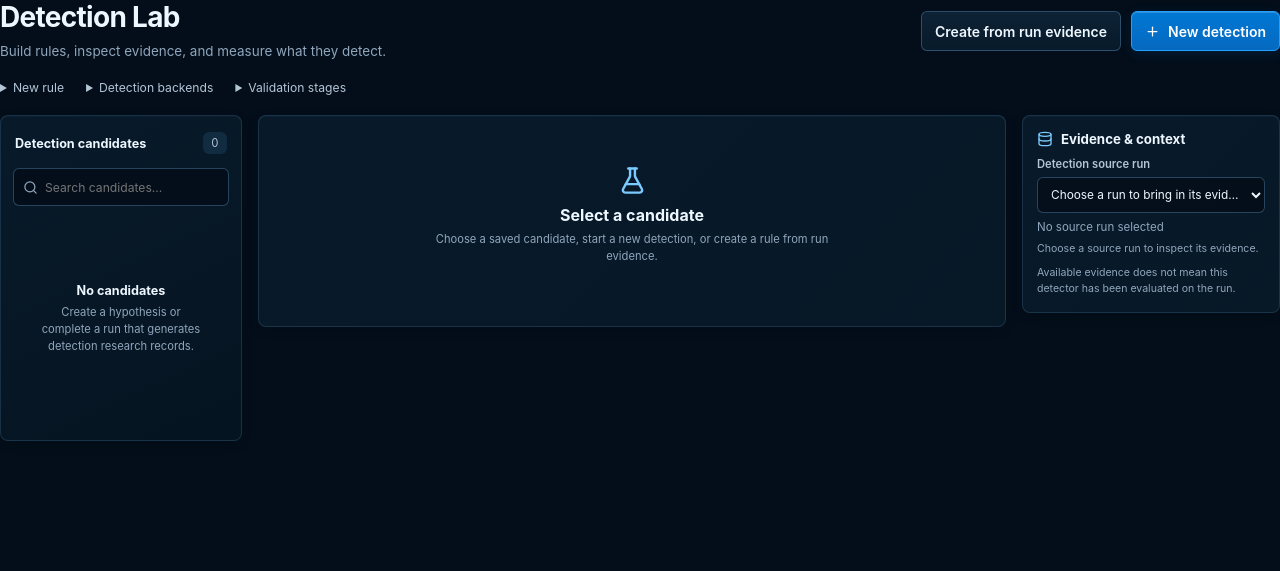
Test: keeps an empty registry focused on a clear creation action without an unrelated AI form
Check: the field labelled "Title" is not shown
Check: the link "Create from run evidence" is shown, box [921,11,1121,51]
Click the button "New detection" at {"x": 1206, "y": 31}, box [1131,11,1279,51]
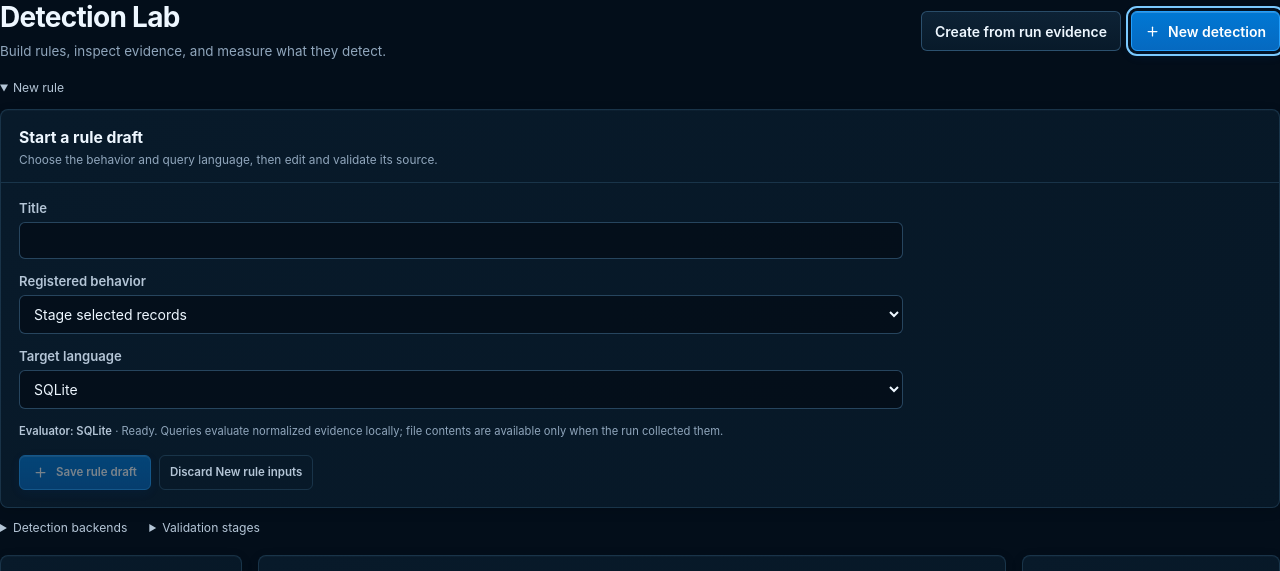
Click the field labelled "Title" at {"x": 461, "y": 241}, box [19,222,903,259]
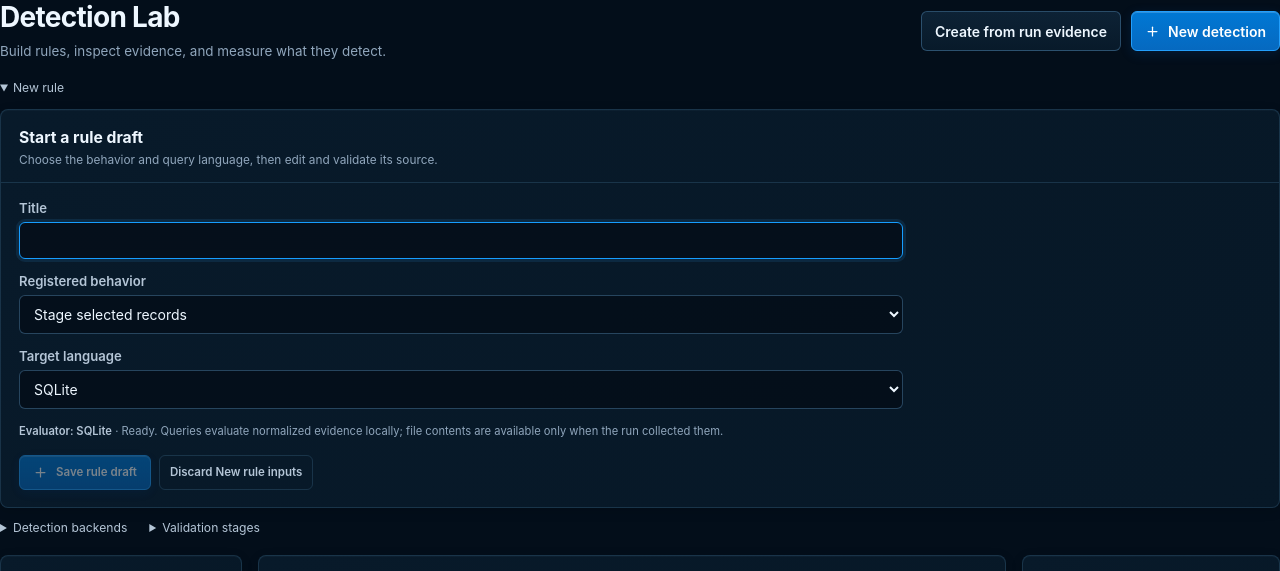
Type keys "Collection behavior draft"
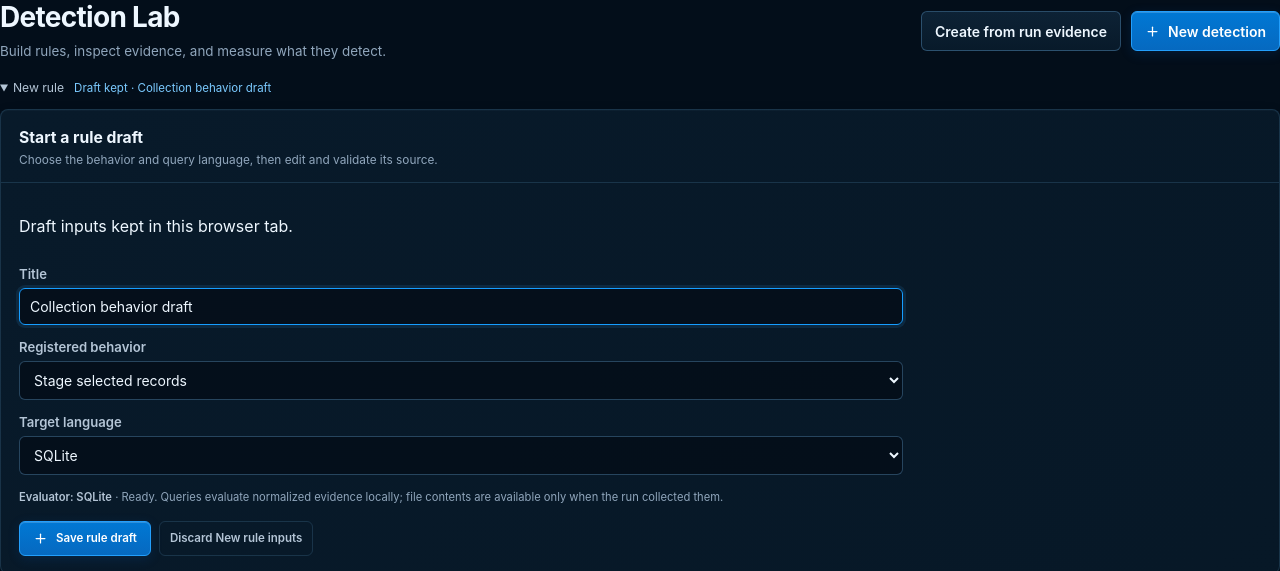
Click the heading "New rule" at {"x": 142, "y": 88}, box [13,80,271,95]
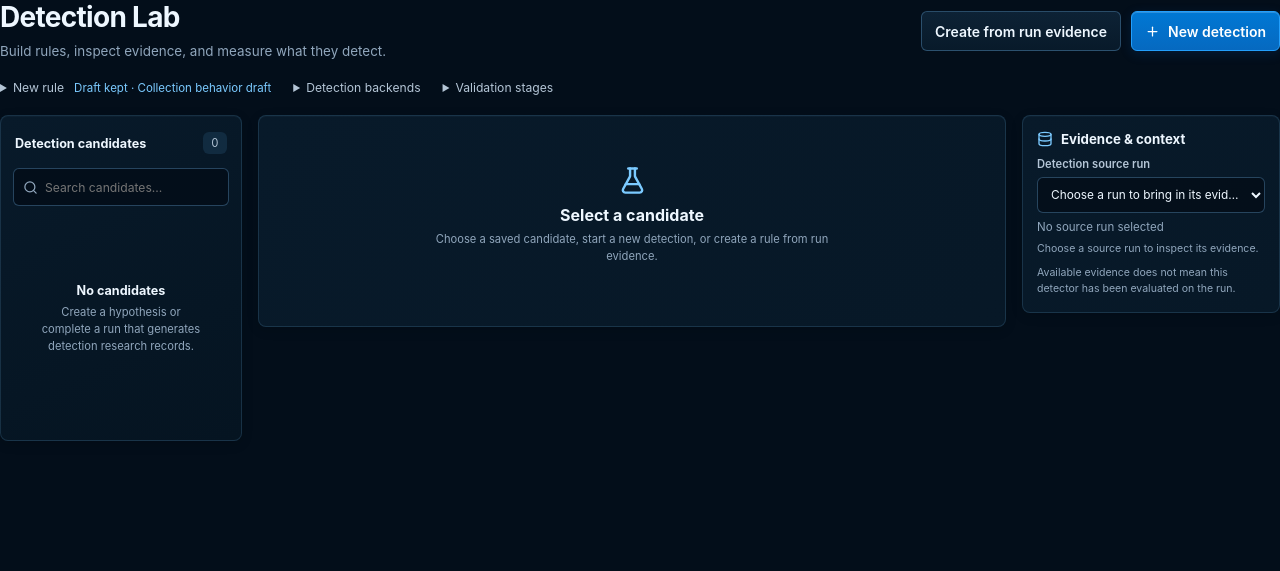
Check: the text "Draft kept · Collection behavior draft" is shown, box [74,81,271,95]
Check: the text "Title" is gone
Click the button "New detection" at {"x": 1206, "y": 31}, box [1131,11,1279,51]
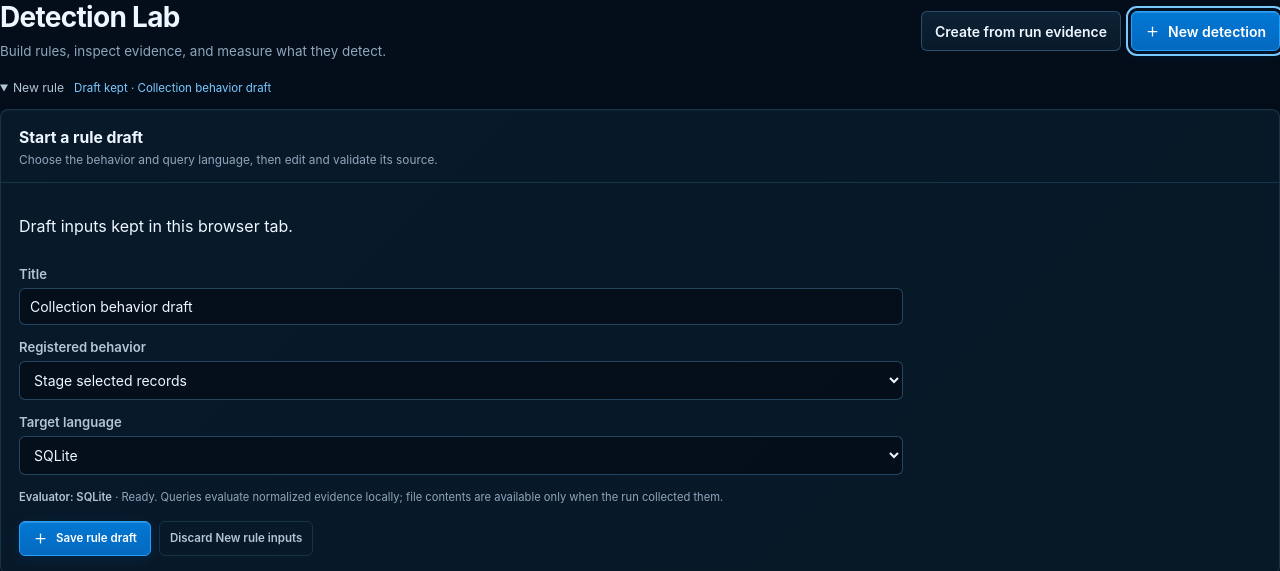
Check: the field labelled "Title" holds "Collection behavior draft", box [19,288,903,325]
